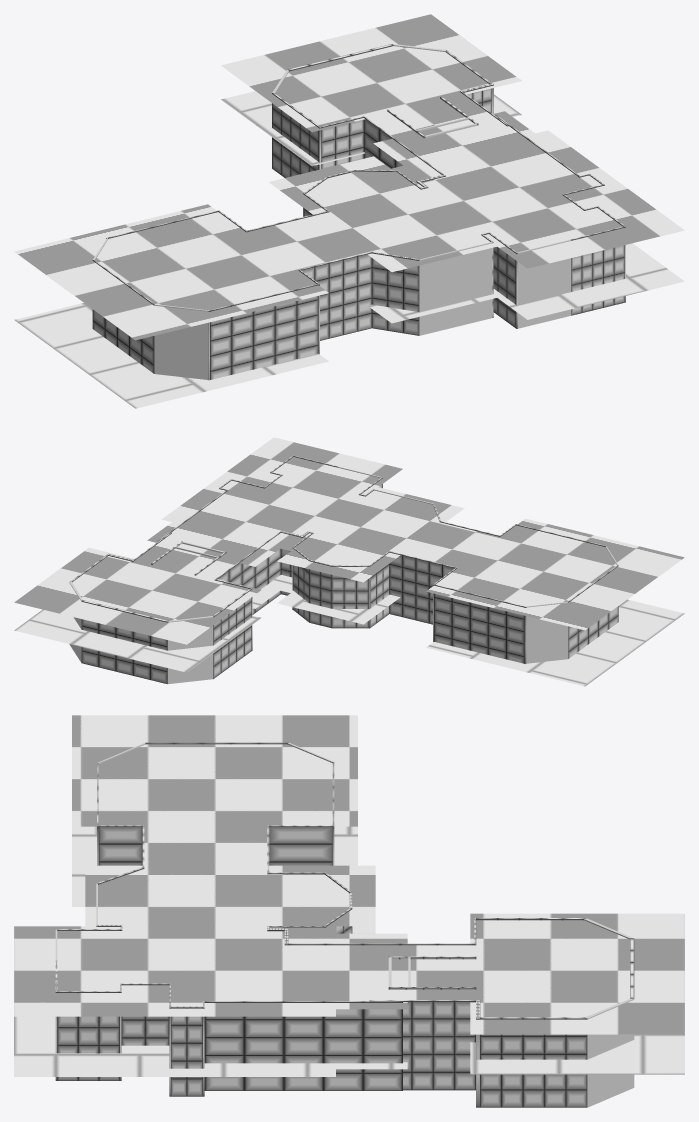
File: space_station_simple.glb
The picture shows the model from 3 angles, top to bottom: view 1: azimuth 30°, elevation 25°; view 2: azimuth 150°, elevation 25°; view 3: azimuth 270°, elevation 25°; orthographic projection. The views are drawn at different scales.
Visible parts, largest first — view 1: ground_up, wall3, ground_down, wall_glass; view 2: ground_up, wall3, ground_down, wall_glass; view 3: ground_up, wall3, ground_down, wall_glass.
Boxes of the visible parts, box(x1,y1,x2,y2) form: ground_up: box(14, 14, 684, 340); wall3: box(92, 44, 625, 380); ground_down: box(14, 91, 684, 408); wall_glass: box(93, 44, 571, 379); ground_up: box(14, 437, 684, 644); wall3: box(70, 455, 618, 683); ground_down: box(14, 574, 684, 686); wall_glass: box(69, 466, 618, 684); ground_up: box(14, 715, 684, 1034); wall3: box(55, 742, 634, 1107); ground_down: box(14, 826, 684, 1076); wall_glass: box(55, 742, 634, 1107).
Bounding box in the file's own units: 332 × 44.06 × 295.
4 materials, 3 textured.
